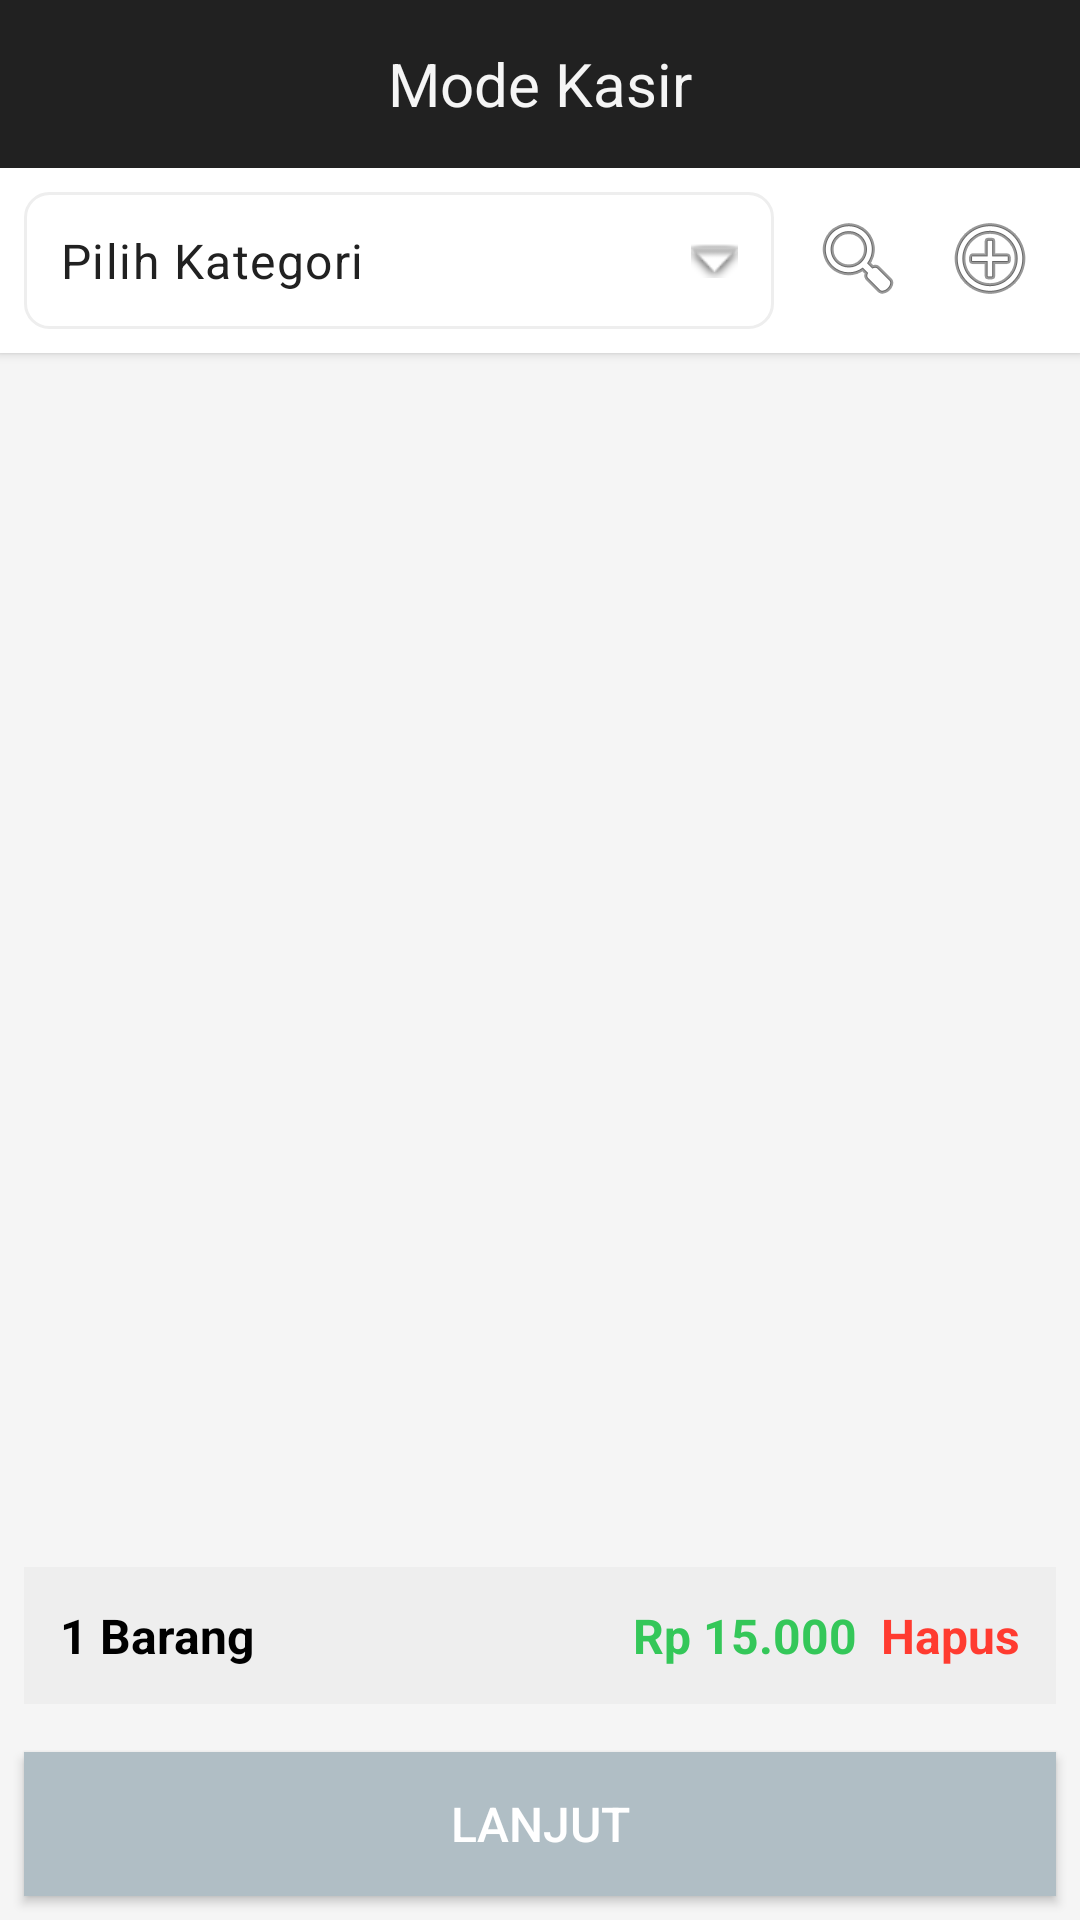

Screen size 1080x1920. Icon name, then its box in pixels as (x1, y1, x2, y2):
add: (954, 223, 1026, 294)
search: (822, 223, 894, 294)
